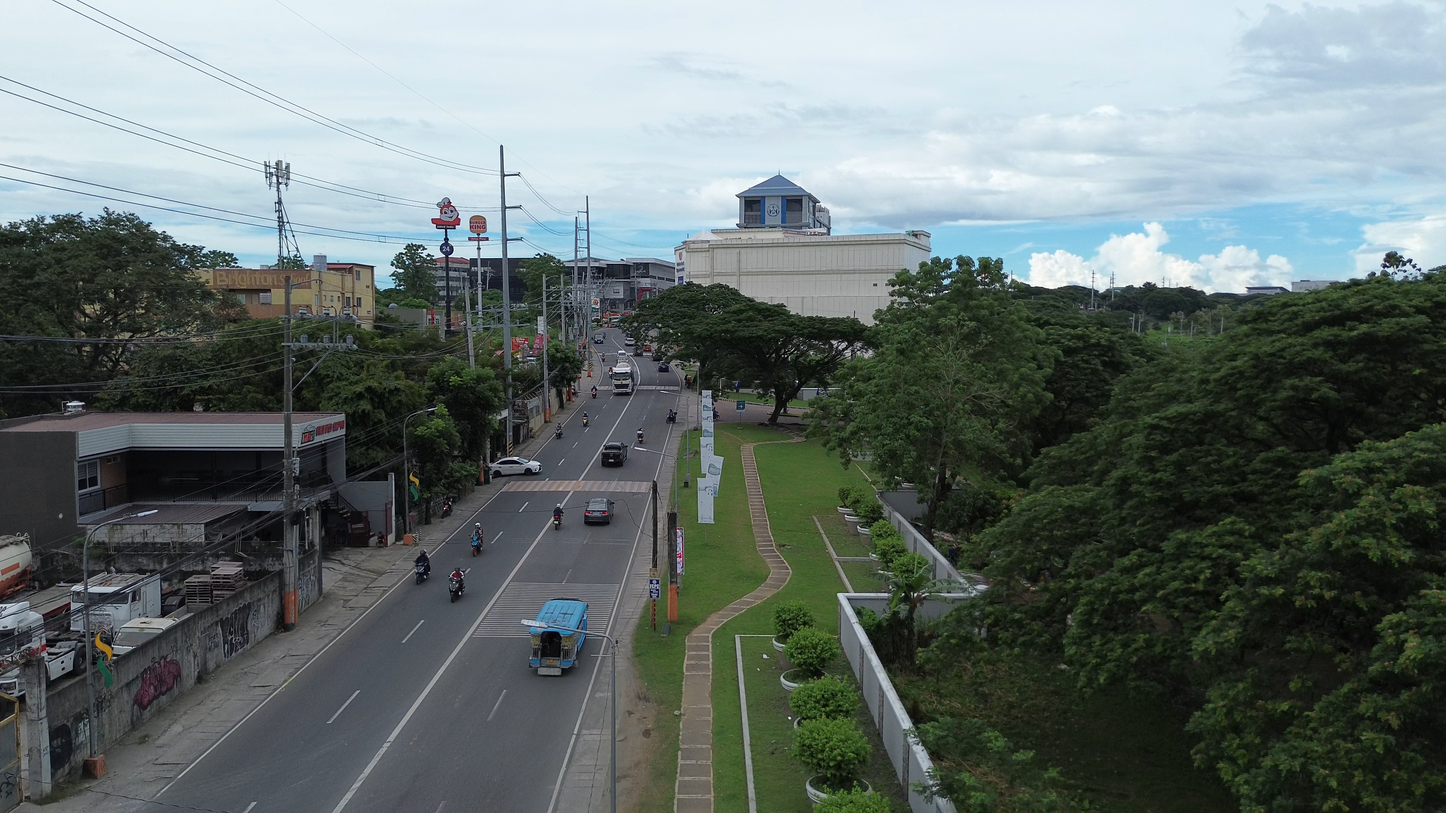car: (583, 498, 613, 524), (657, 362, 670, 372), (624, 337, 635, 347)
motorcycle: (449, 576, 464, 601), (440, 496, 454, 518), (415, 563, 429, 584), (470, 535, 483, 556), (553, 513, 561, 530), (666, 410, 676, 423), (636, 429, 643, 445), (555, 426, 563, 438), (582, 416, 589, 428), (591, 387, 597, 399)
truck: (0, 601, 79, 696)
vehicle: (529, 598, 587, 675), (88, 573, 162, 630), (113, 618, 178, 655), (0, 534, 33, 597), (45, 641, 80, 681), (491, 456, 541, 476), (610, 362, 636, 395), (600, 442, 627, 466), (448, 575, 464, 601), (470, 536, 482, 556), (592, 333, 605, 344), (554, 425, 563, 438), (581, 414, 589, 428), (625, 337, 635, 346)
